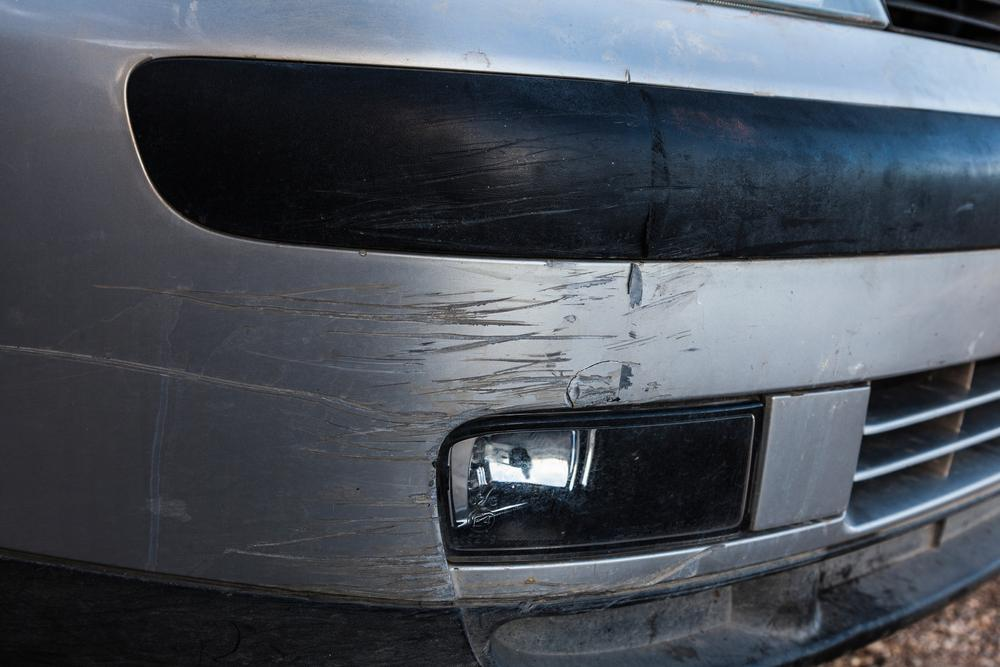scratch: (0, 255, 733, 602), (331, 117, 639, 232)
